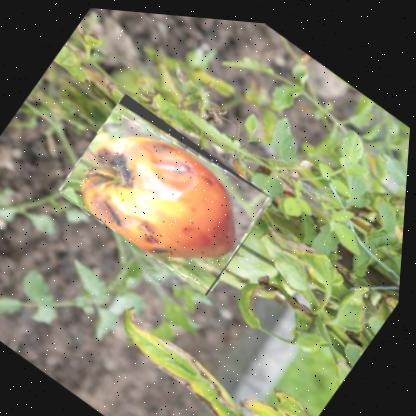tomato_rotten: (55, 86, 281, 296)
